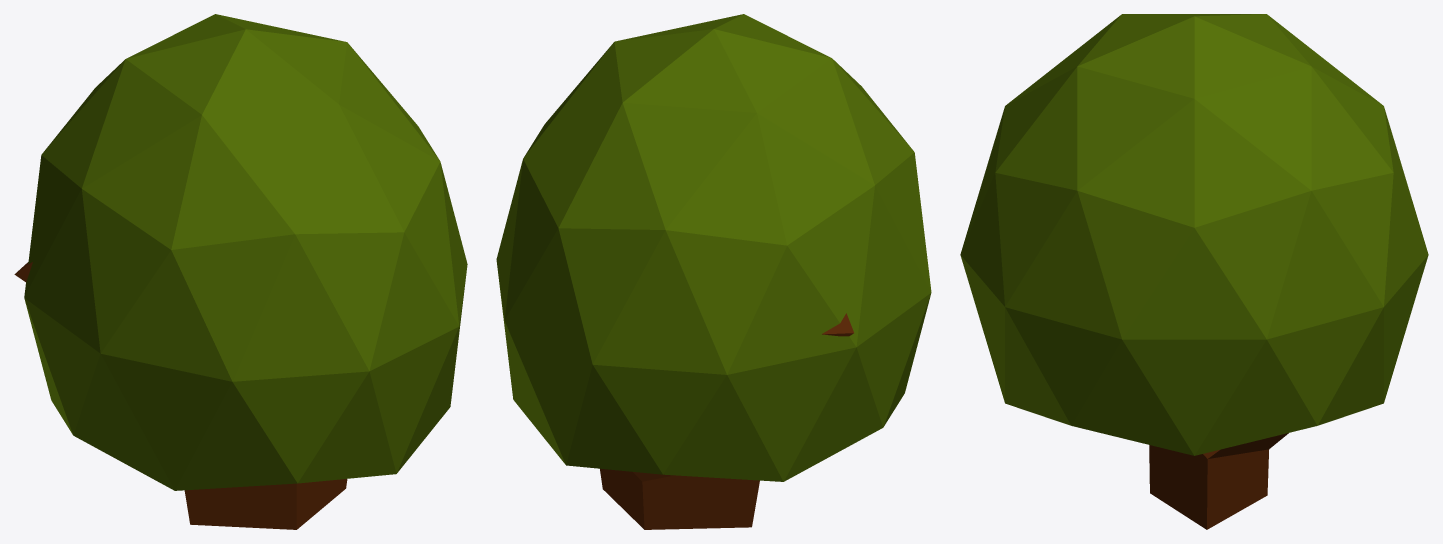
Rendered from BUSH2.fbx.
3 renders of one model, left to right at view 1: azimuth 30°, elevation 25°; view 2: azimuth 150°, elevation 25°; view 3: azimuth 270°, elevation 25°, orthographic. The views are drawn at different scales.
Visible parts, largest first — view 1: Icosphere, Plane; view 2: Icosphere, Plane; view 3: Icosphere, Plane.
Part boxes in pixels (x1,y1,x2,y2): Icosphere: [24, 14, 467, 490]; Plane: [14, 262, 347, 529]; Icosphere: [496, 14, 931, 481]; Plane: [600, 313, 853, 529]; Icosphere: [960, 14, 1428, 455]; Plane: [1149, 433, 1288, 529].
Bounding box in the file's own units: 60.62 × 76.58 × 70.
